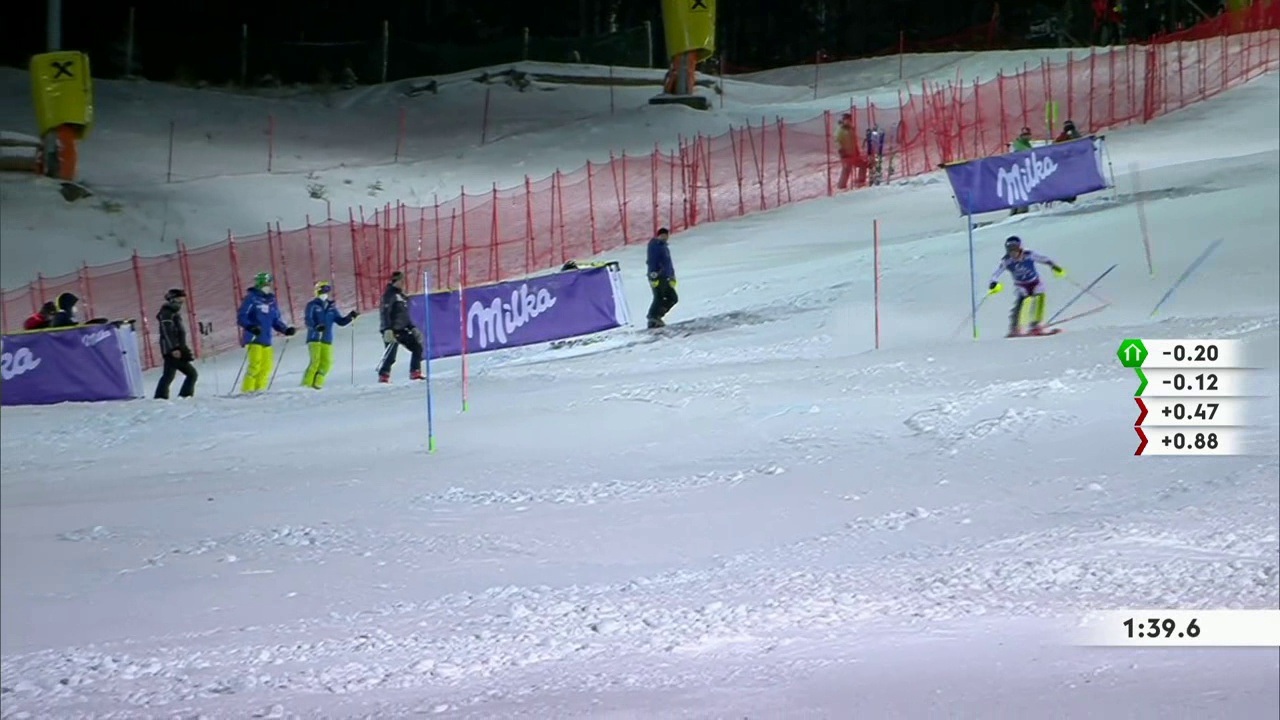milka: (409, 278, 610, 362), (945, 143, 1104, 213), (1, 343, 45, 391)
raiffeisen: (41, 54, 83, 88), (682, 1, 714, 19)
